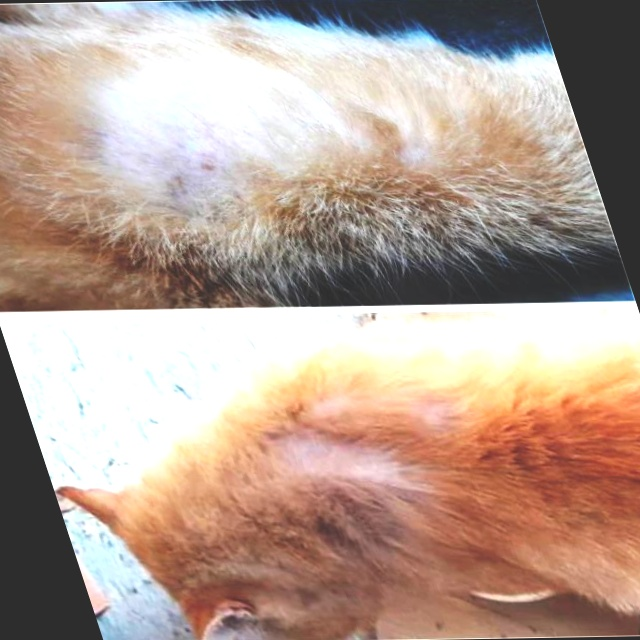hairloss: (92, 76, 350, 188), (275, 431, 396, 473), (315, 399, 461, 421)
